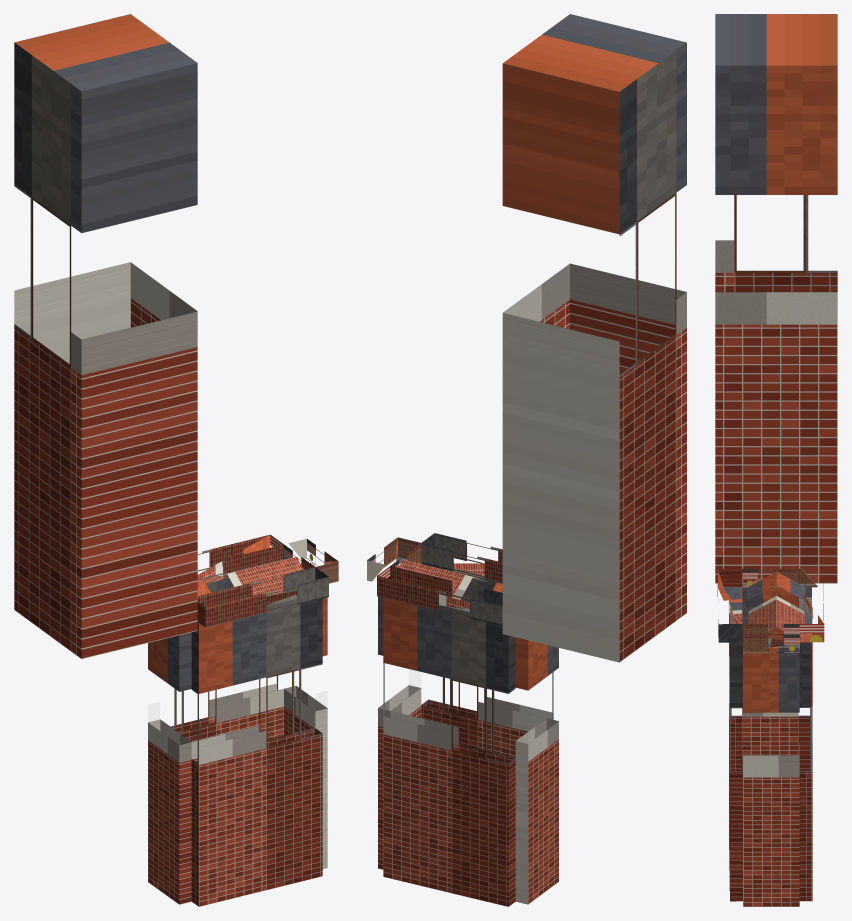
The picture shows the model from 3 angles, left to right: view 1: azimuth 30°, elevation 25°; view 2: azimuth 150°, elevation 25°; view 3: azimuth 270°, elevation 25°; orthographic projection. The views are drawn at different scales.
Visible parts, largest first — view 1: 1107169177__chimney_0_xb, 1107169177__wall_2_xb, 1107169177__wall_3_xb, 1107169177__wall_0_xb, 1107169177__cornice_2, 1107169177__wall_1_xb, 1107169177__cornice_0, 1107169177_roof_-1_xb, 1107169177__cornice_1; view 2: 1107169177__chimney_0_xb, 1107169177__wall_0_xb, 1107169177__wall_3_xb, 1107169177__wall_2_xb, 1107169177__cornice_0, 1107169177__wall_1_xb, 1107169177__cornice_2, 1107169177__cornice_1, 1107169177_roof_1_xb; view 3: 1107169177__chimney_0_xb, 1107169177__wall_1_xb, 1107169177__wall_0_xb, 1107169177__wall_2_xb, 1107169177__wall_3_xb, 1107169177__cornice_2, 1107169177__cornice_1, 1107169177_roof_1_xb, 1107169177_roof_-1_xb, 1107169177__cornice_0, 1107169177__cornice_3.
Boxes of the visible parts, x1,y1,x2,y2 form: 1107169177__chimney_0_xb: (14,14,197,658); 1107169177__wall_2_xb: (191,594,322,906); 1107169177__wall_3_xb: (148,632,191,904); 1107169177__wall_0_xb: (170,573,283,741); 1107169177__cornice_2: (197,567,328,627); 1107169177__wall_1_xb: (284,597,327,868); 1107169177__cornice_0: (197,534,283,583); 1107169177_roof_-1_xb: (197,557,303,596); 1107169177__cornice_1: (284,538,338,583); 1107169177__chimney_0_xb: (502,14,686,662); 1107169177__wall_0_xb: (383,597,515,906); 1107169177__wall_3_xb: (515,637,558,904); 1107169177__wall_2_xb: (421,563,553,757); 1107169177__cornice_0: (377,566,502,625); 1107169177__wall_1_xb: (378,563,421,869); 1107169177__cornice_2: (421,533,502,582); 1107169177__cornice_1: (367,537,421,581); 1107169177_roof_1_xb: (399,559,502,616); 1107169177__chimney_0_xb: (715,14,837,583); 1107169177__wall_1_xb: (743,645,799,906); 1107169177__wall_0_xb: (798,587,812,901); 1107169177__wall_2_xb: (729,587,742,901); 1107169177__wall_3_xb: (742,583,798,755); 1107169177__cornice_2: (717,569,742,642); 1107169177__cornice_1: (743,624,799,652); 1107169177_roof_1_xb: (776,572,805,642); 1107169177_roof_-1_xb: (747,571,776,630); 1107169177__cornice_0: (798,568,824,642); 1107169177__cornice_3: (742,568,798,587).
Bounding box in the file's own units: 0.3513 × 1.05 × 0.15.
Materials: 1 (1 with a texture image).
